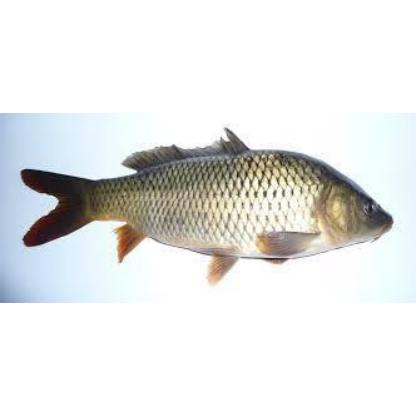ikan-mas: (25, 141, 393, 265)
